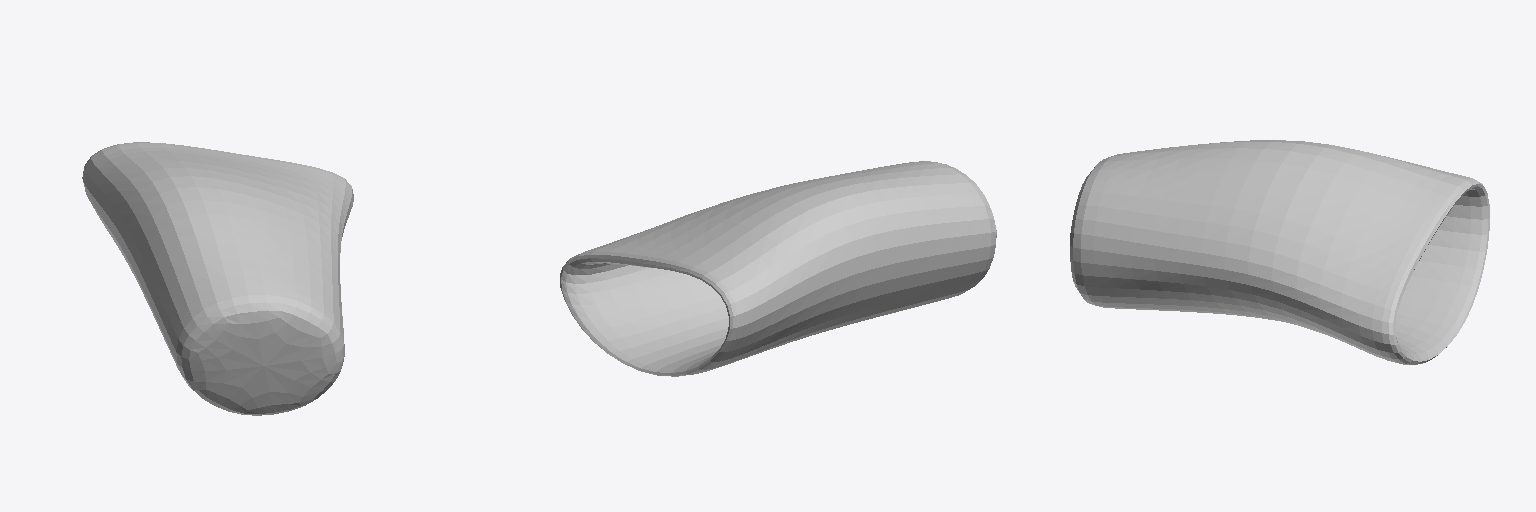
File: cup2.obj
The picture shows the model from 3 angles: view 1: azimuth 30°, elevation 25°; view 2: azimuth 150°, elevation 25°; view 3: azimuth 270°, elevation 25°; orthographic projection.
Visible parts, largest first — view 1: Cup.001; view 2: Cup.001; view 3: Cup.001.
Part boxes in pixels (bbox=[...]): Cup.001: bbox=[82, 142, 353, 415]; Cup.001: bbox=[560, 161, 996, 376]; Cup.001: bbox=[1070, 140, 1489, 364].
Bounding box in the file's own units: 0.3546 × 0.1755 × 0.4259.